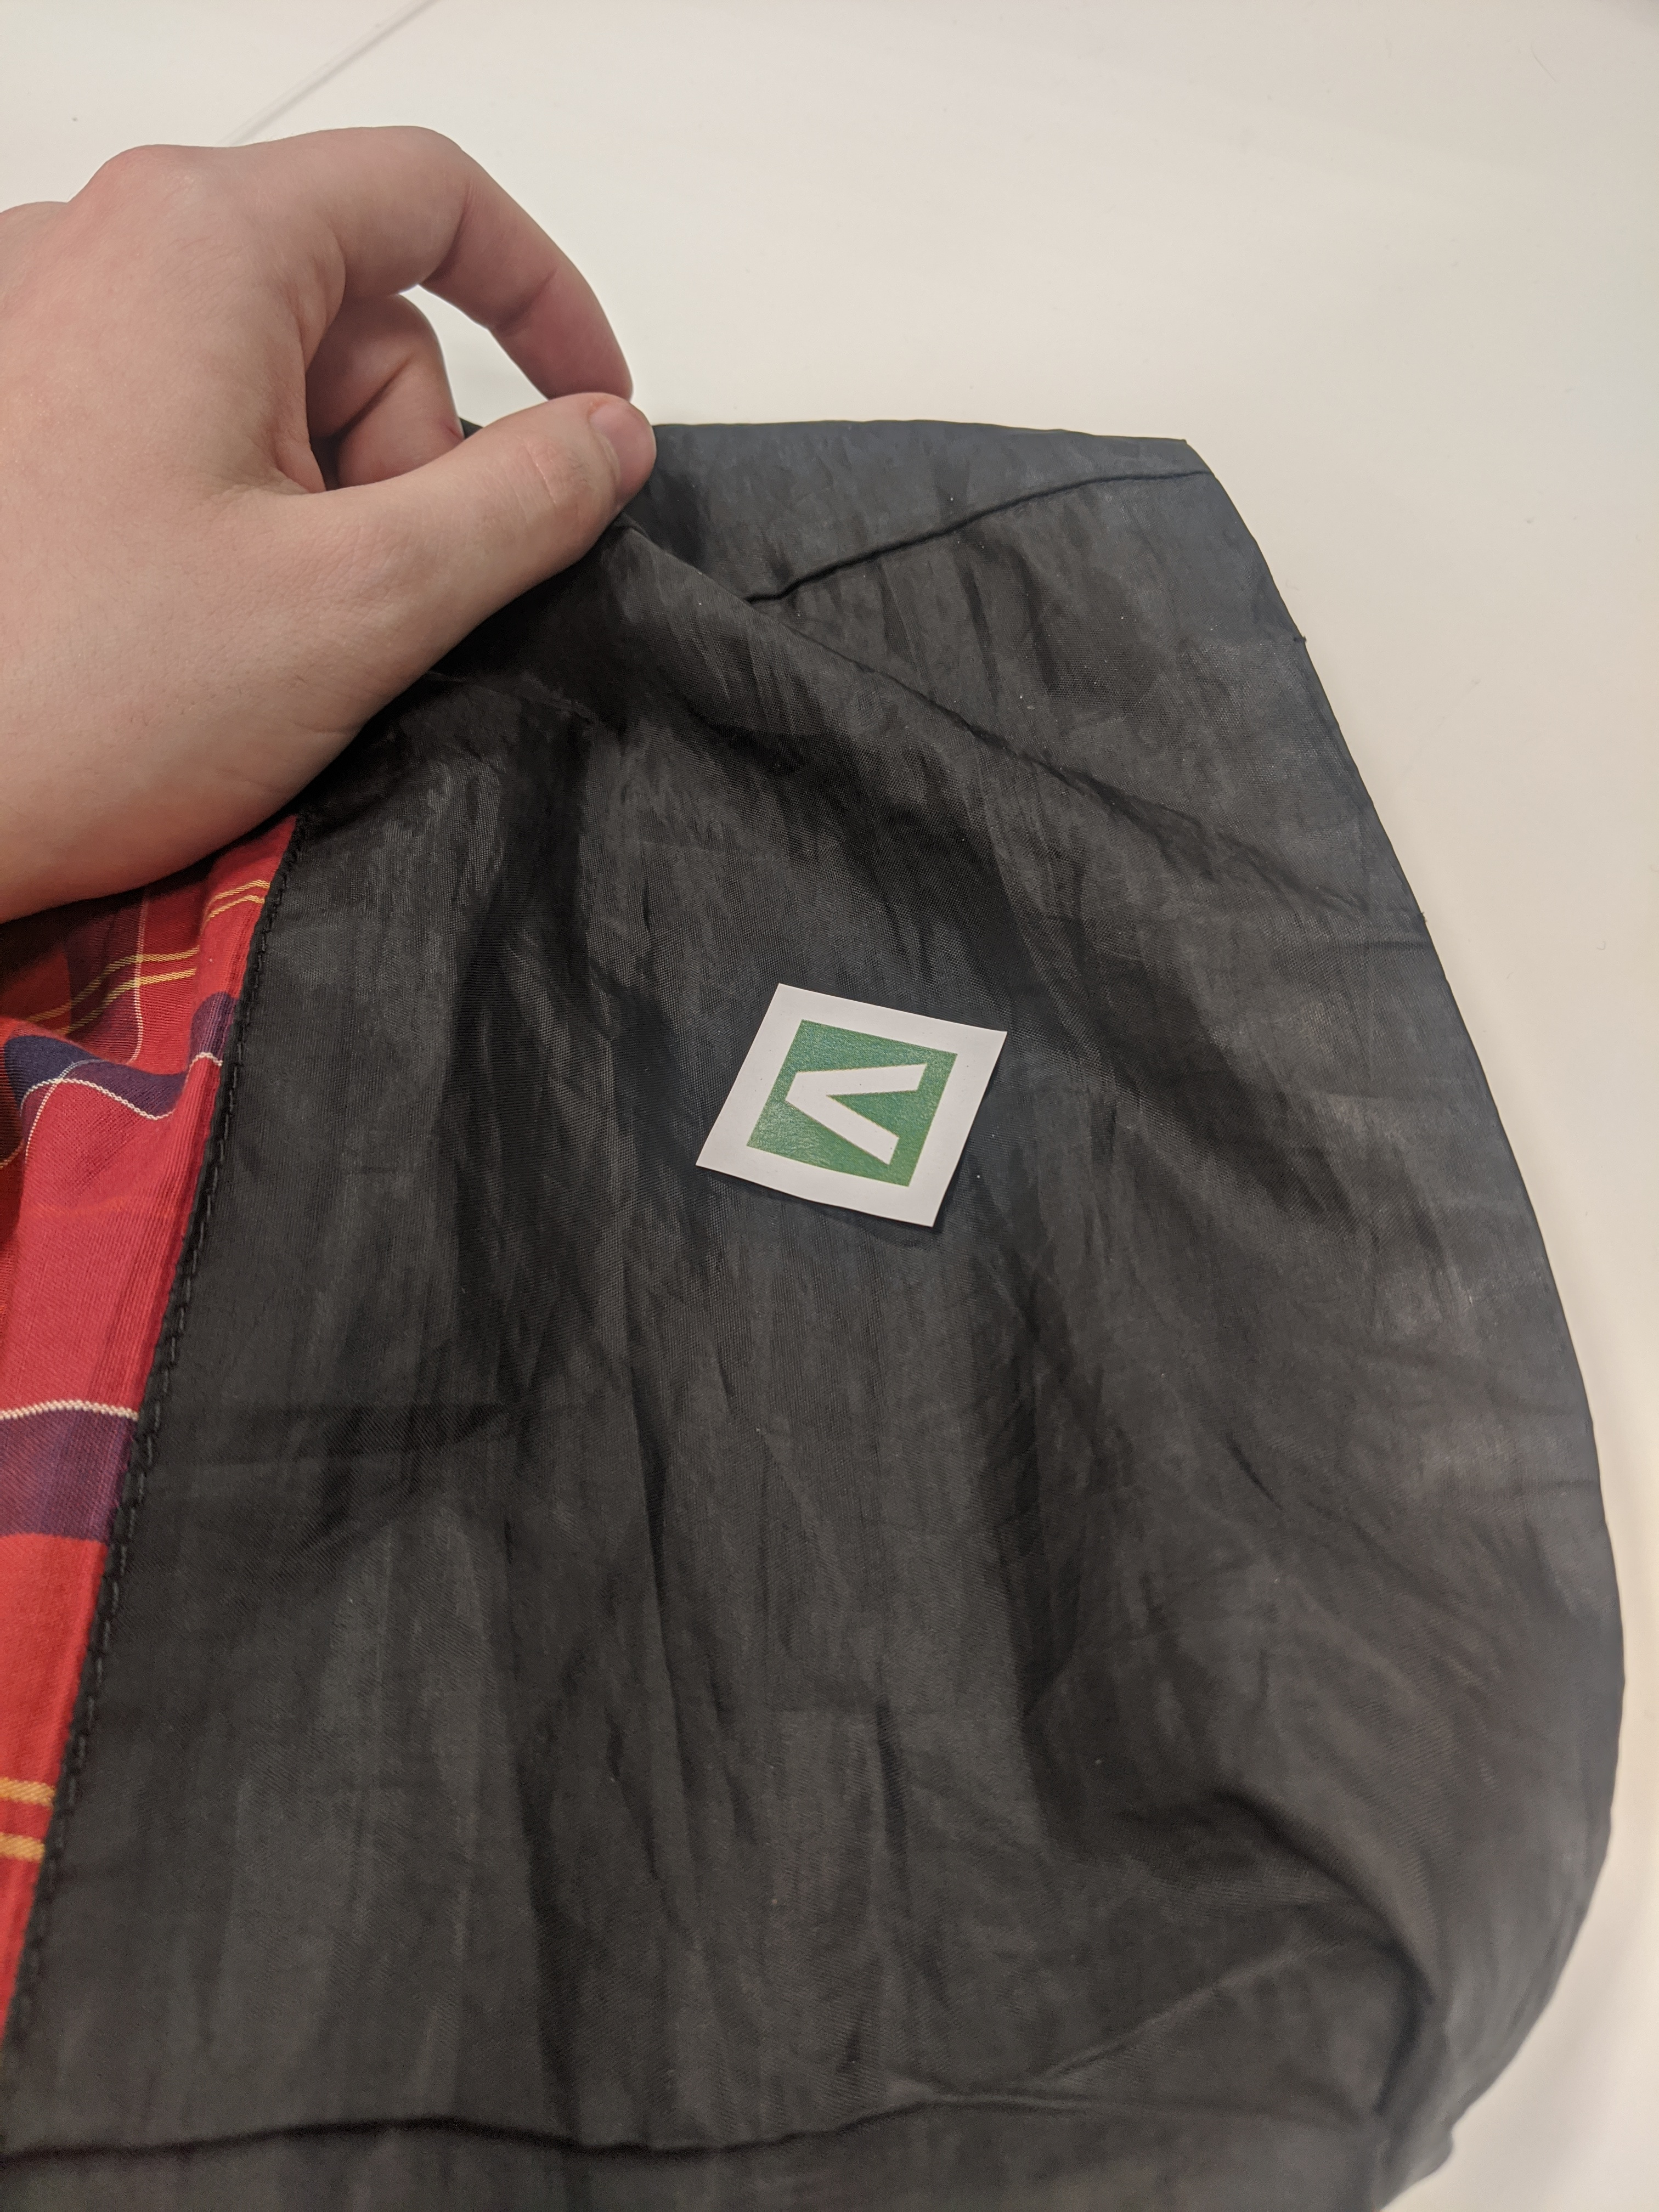green marker: (688, 972, 1018, 1251)
